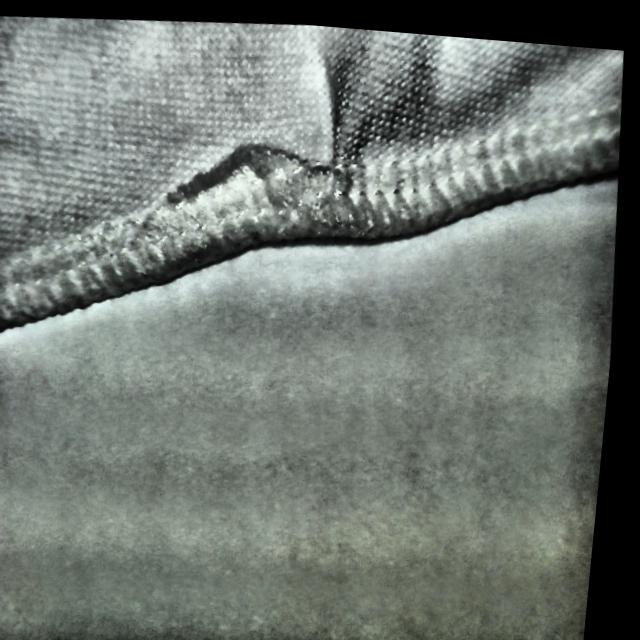seam: (158, 50, 400, 270)
